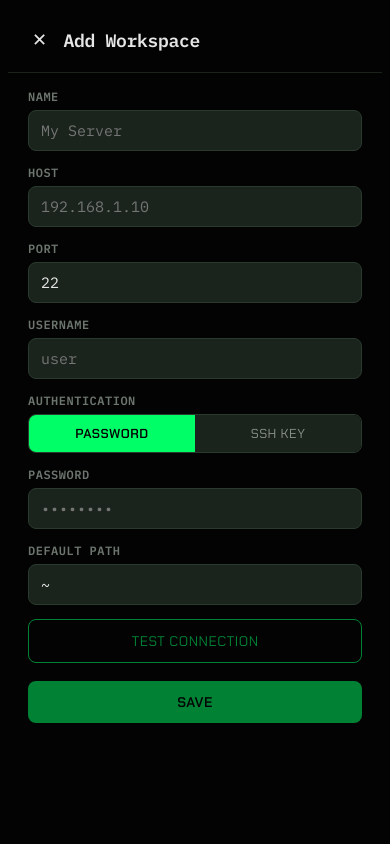
it: WorkspaceAddScreen host key prompt on Test Connection › reports a rejected key as a failed test and trusts nothing
In the field with placeholder "192.168.1.10": (195, 206) left=28, top=186, right=362, bottom=227, type "10.0.0.5"
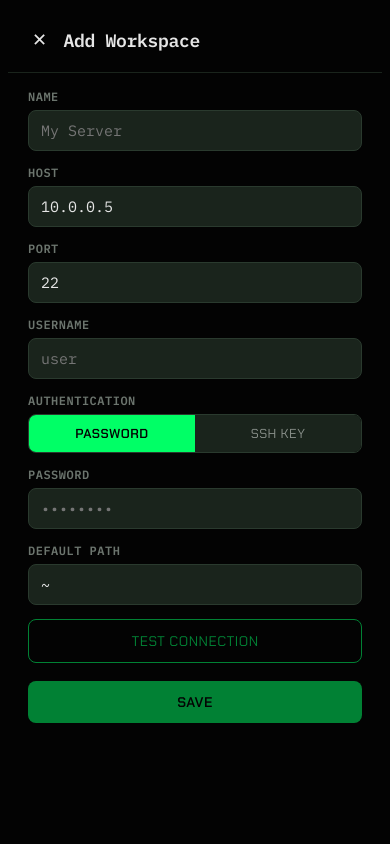
In the field with placeholder "user": (195, 358) left=28, top=338, right=362, bottom=379, type "root"
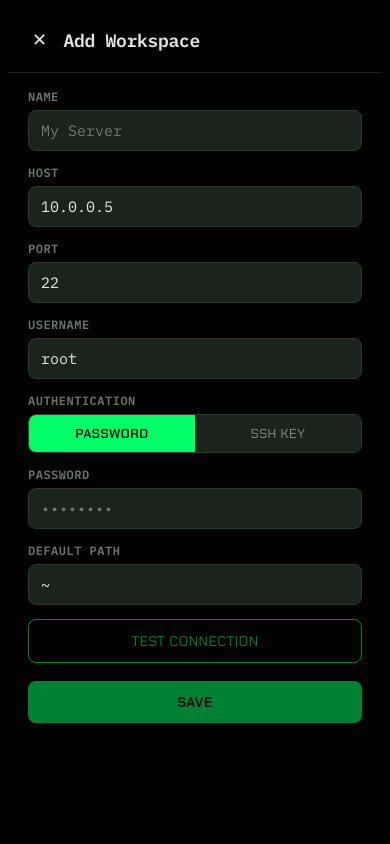
In the password field with placeholder "••••••••": (195, 508) left=28, top=488, right=362, bottom=529, type "hunter2"
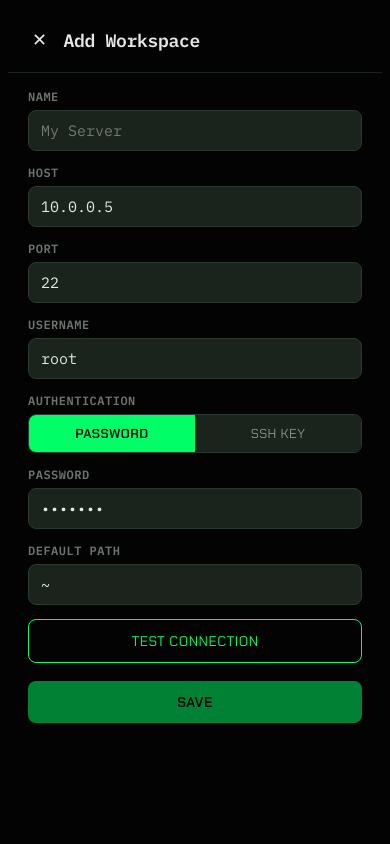
Click the button "Test Connection": (195, 641) left=28, top=619, right=362, bottom=663
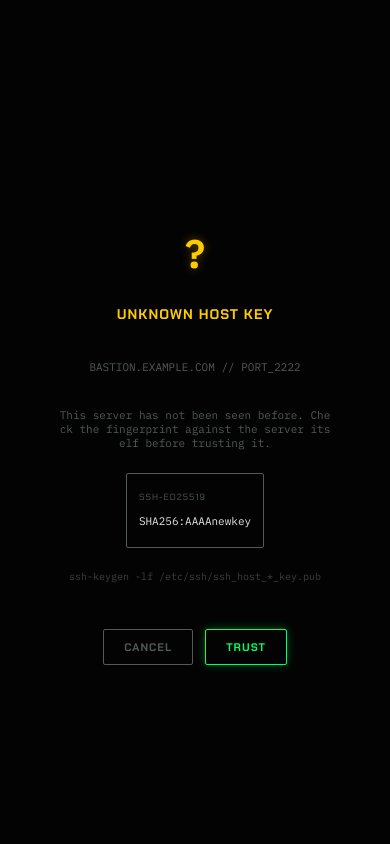
Expected: the text "Unknown Host Key" is shown, left=117, top=305, right=273, bottom=323
Click the button "Cancel": (148, 647) left=103, top=629, right=193, bottom=665
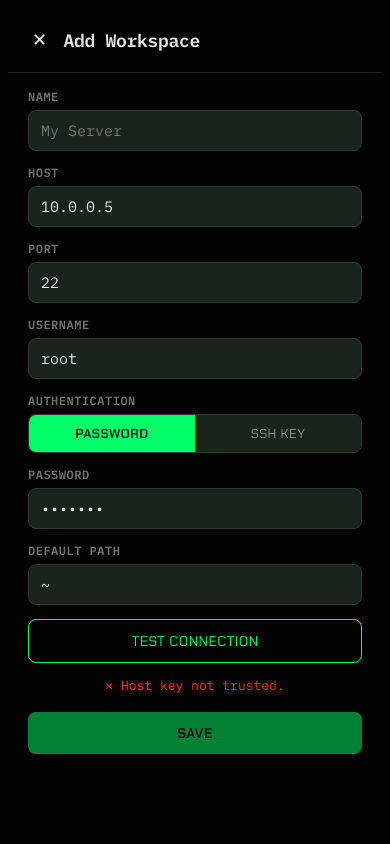
Expected: the text "✕ Host key not trusted." is shown, left=105, top=677, right=285, bottom=694
